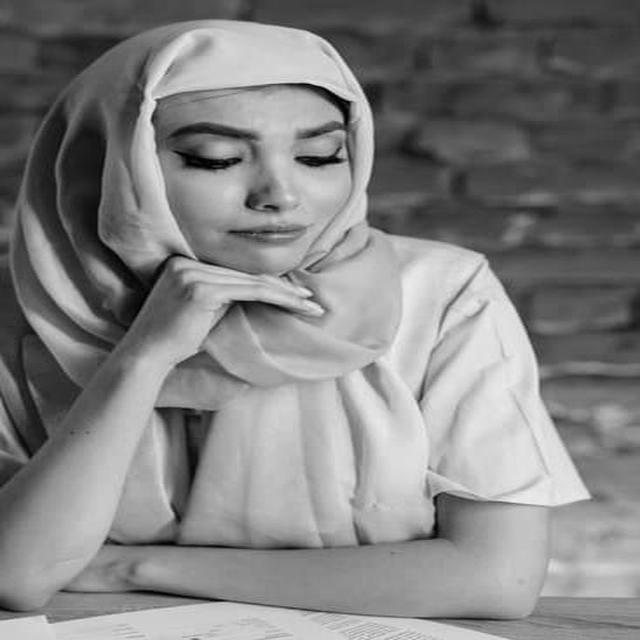Sadness: (161, 88, 353, 276)
